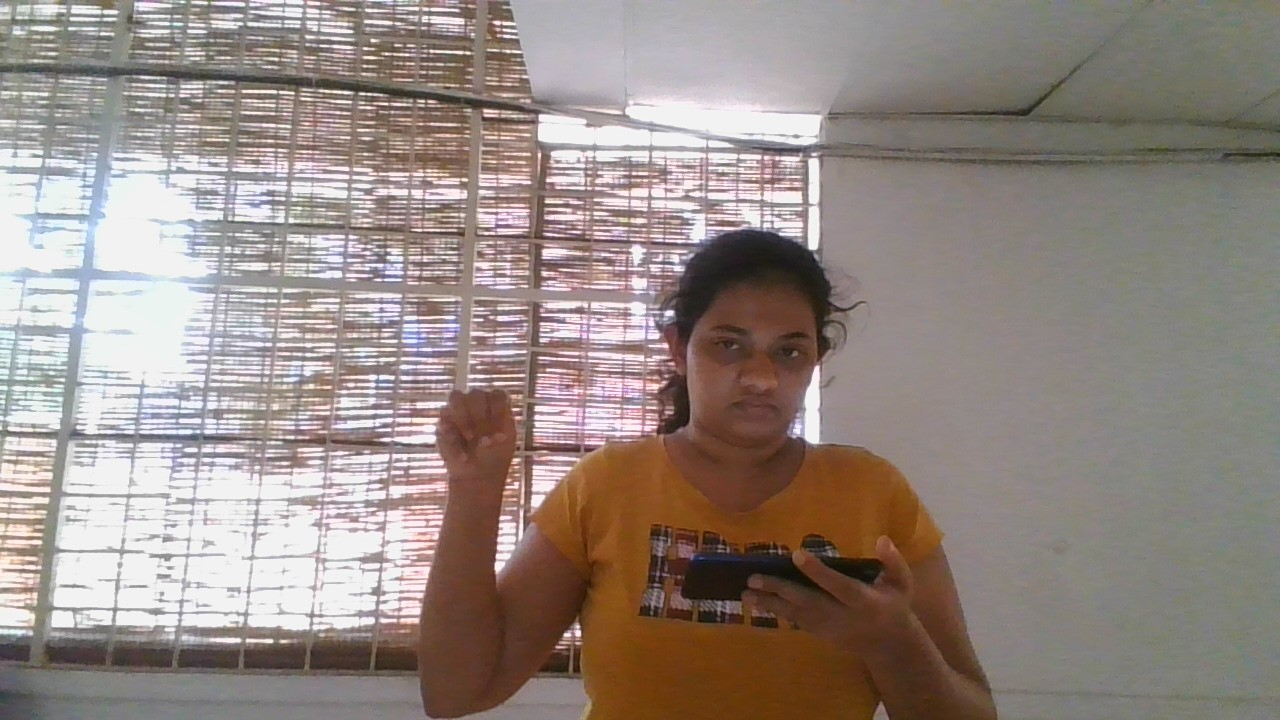m: (416, 380, 530, 490)
